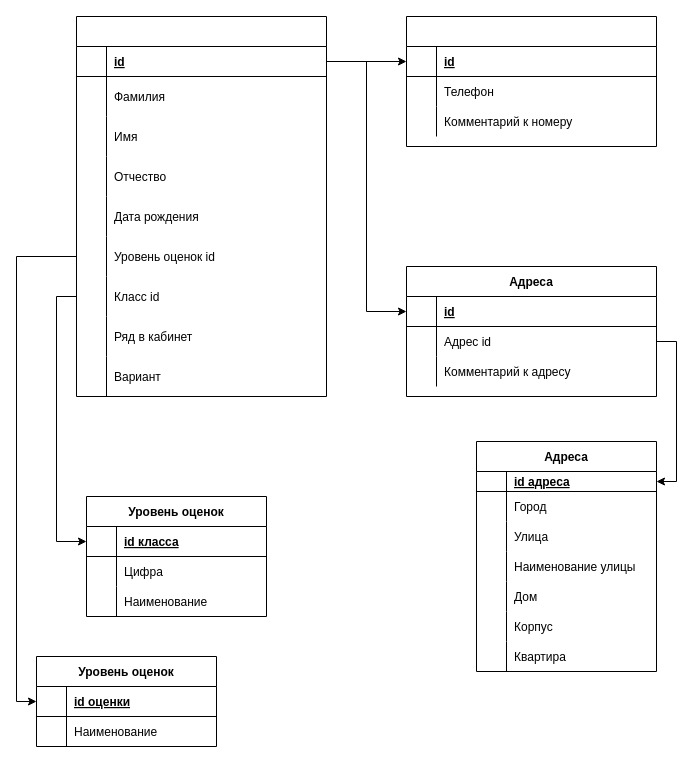
Some shapes in this 693 by 763 pixel diagram are drawn without their labels. Each missing label, with the box of its shape:
Телефоны: (406, 16, 656, 146)
Ученики: (76, 16, 326, 396)
